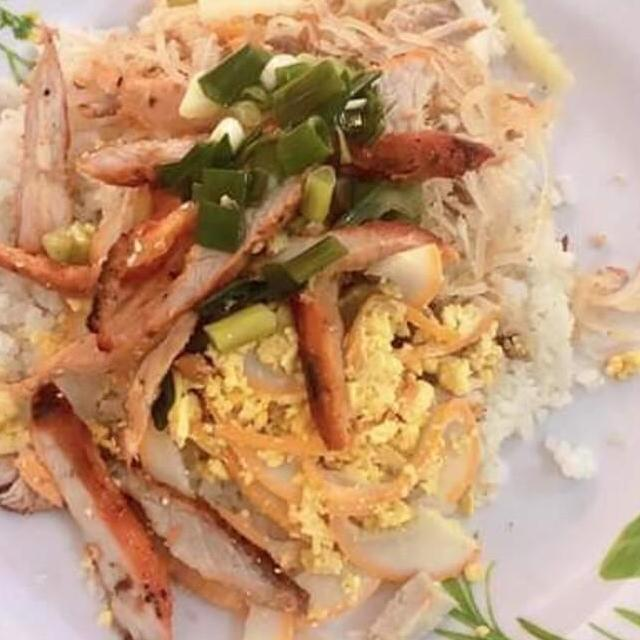bi: (254, 0, 565, 154), (416, 140, 576, 310), (49, 0, 233, 142)
com: (446, 160, 614, 498), (0, 73, 44, 439)
dua chua: (174, 0, 582, 98)
suon: (72, 106, 500, 473), (21, 373, 315, 640)
trung: (164, 236, 507, 640)
